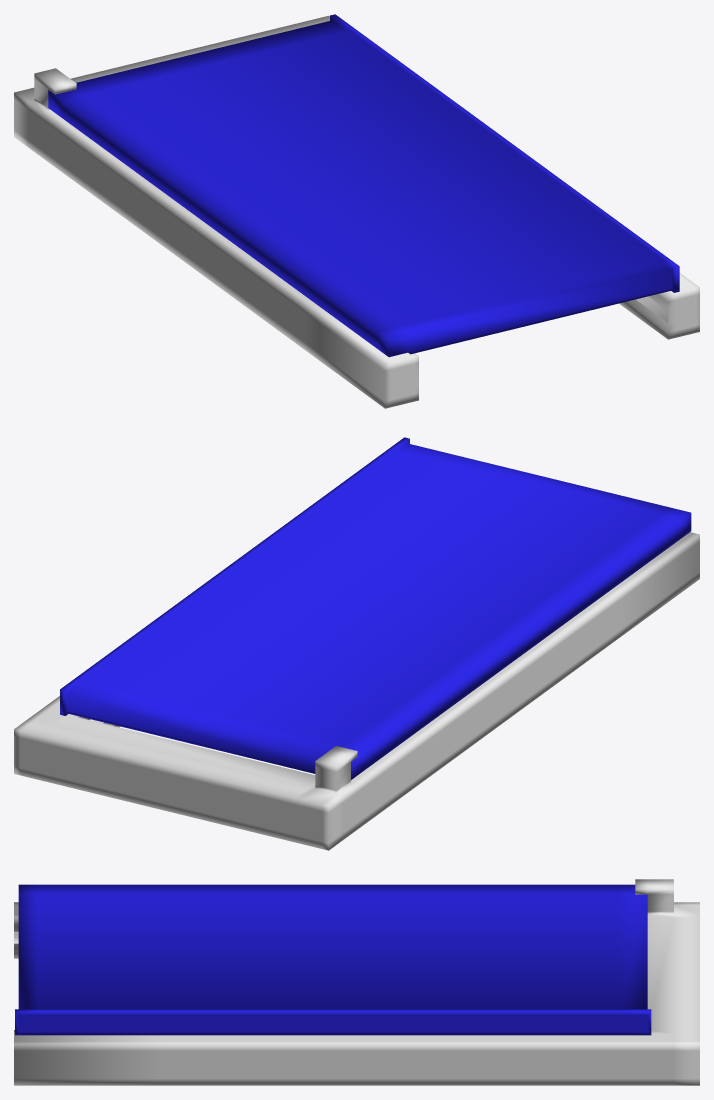
File: Security_Door.fbx
The picture shows the model from 3 angles, top to bottom: view 1: azimuth 30°, elevation 25°; view 2: azimuth 150°, elevation 25°; view 3: azimuth 270°, elevation 25°; orthographic projection. The views are drawn at different scales.
Parts seen in each view (by area): view 1: Panel, Security Frame; view 2: Panel, Security Frame; view 3: Panel, Security Frame.
Boxes of the visible parts, left/top/right/bottom form: Panel: left=48, top=14, right=679, bottom=357; Security Frame: left=14, top=15, right=699, bottom=408; Panel: left=60, top=437, right=691, bottom=779; Security Frame: left=14, top=532, right=699, bottom=850; Panel: left=15, top=884, right=651, bottom=1035; Security Frame: left=14, top=879, right=699, bottom=1085.
Size of the model in its own units: 101 by 22.11 by 205.
